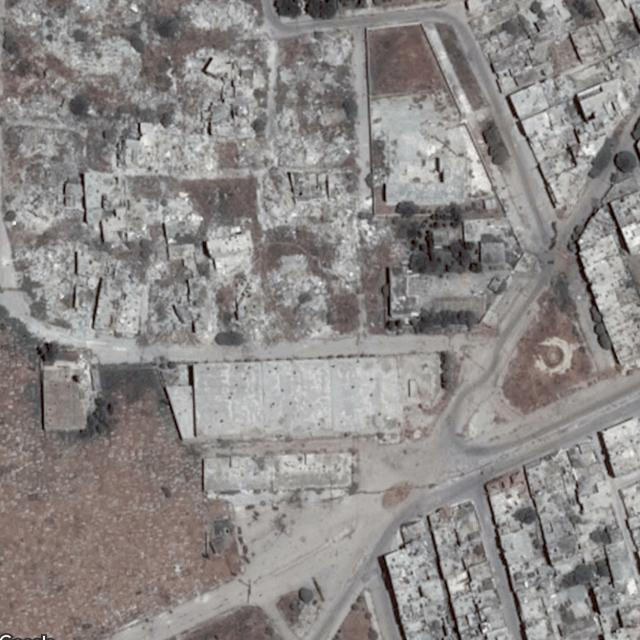damaged_building: (255, 29, 384, 295), (126, 196, 340, 342), (2, 94, 88, 235), (115, 120, 218, 179), (22, 243, 88, 327), (182, 0, 255, 36)
